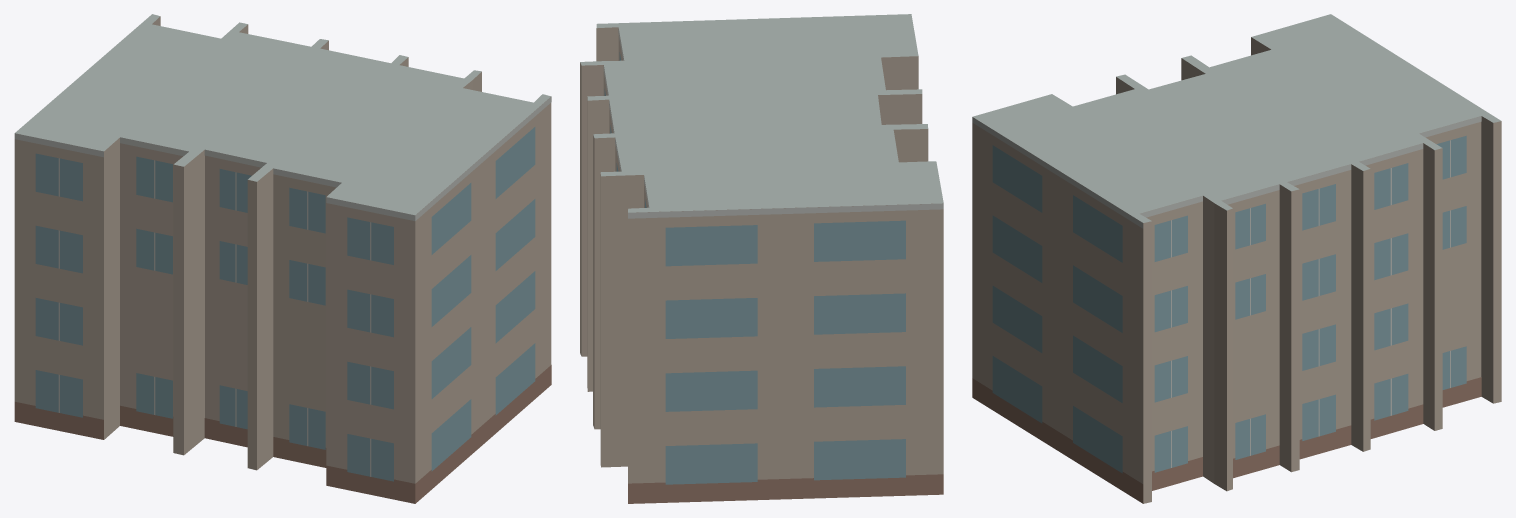
File: survey-upis-32530185.glb
3 renders of one model, left to right at view 1: azimuth 30°, elevation 25°; view 2: azimuth 150°, elevation 25°; view 3: azimuth 270°, elevation 25°, orthographic. The views are drawn at different scales.
Parts seen in each view (by area): view 1: survey-upis-32530185.tmp; view 2: survey-upis-32530185.tmp; view 3: survey-upis-32530185.tmp.
Part boxes in pixels (bbox=[...]): survey-upis-32530185.tmp: bbox=[14, 14, 551, 503]; survey-upis-32530185.tmp: bbox=[580, 14, 943, 503]; survey-upis-32530185.tmp: bbox=[972, 14, 1501, 503].
Bounding box in the file's own units: 18.98 × 11.88 × 20.31.
